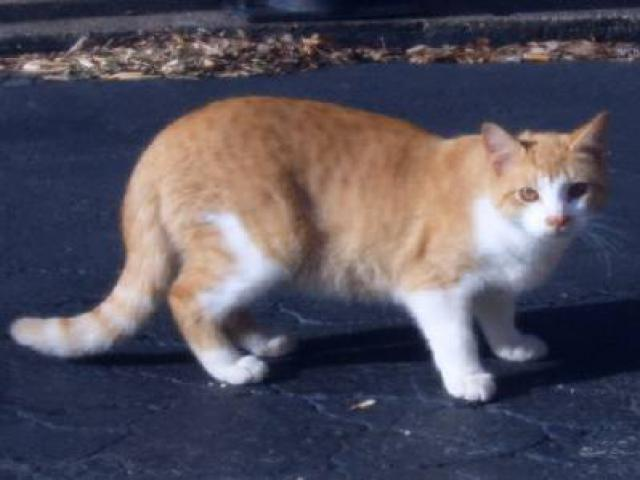cat: (25, 102, 615, 399)
